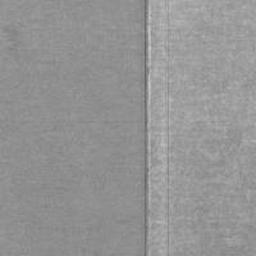Welding line: (142, 0, 154, 256)
